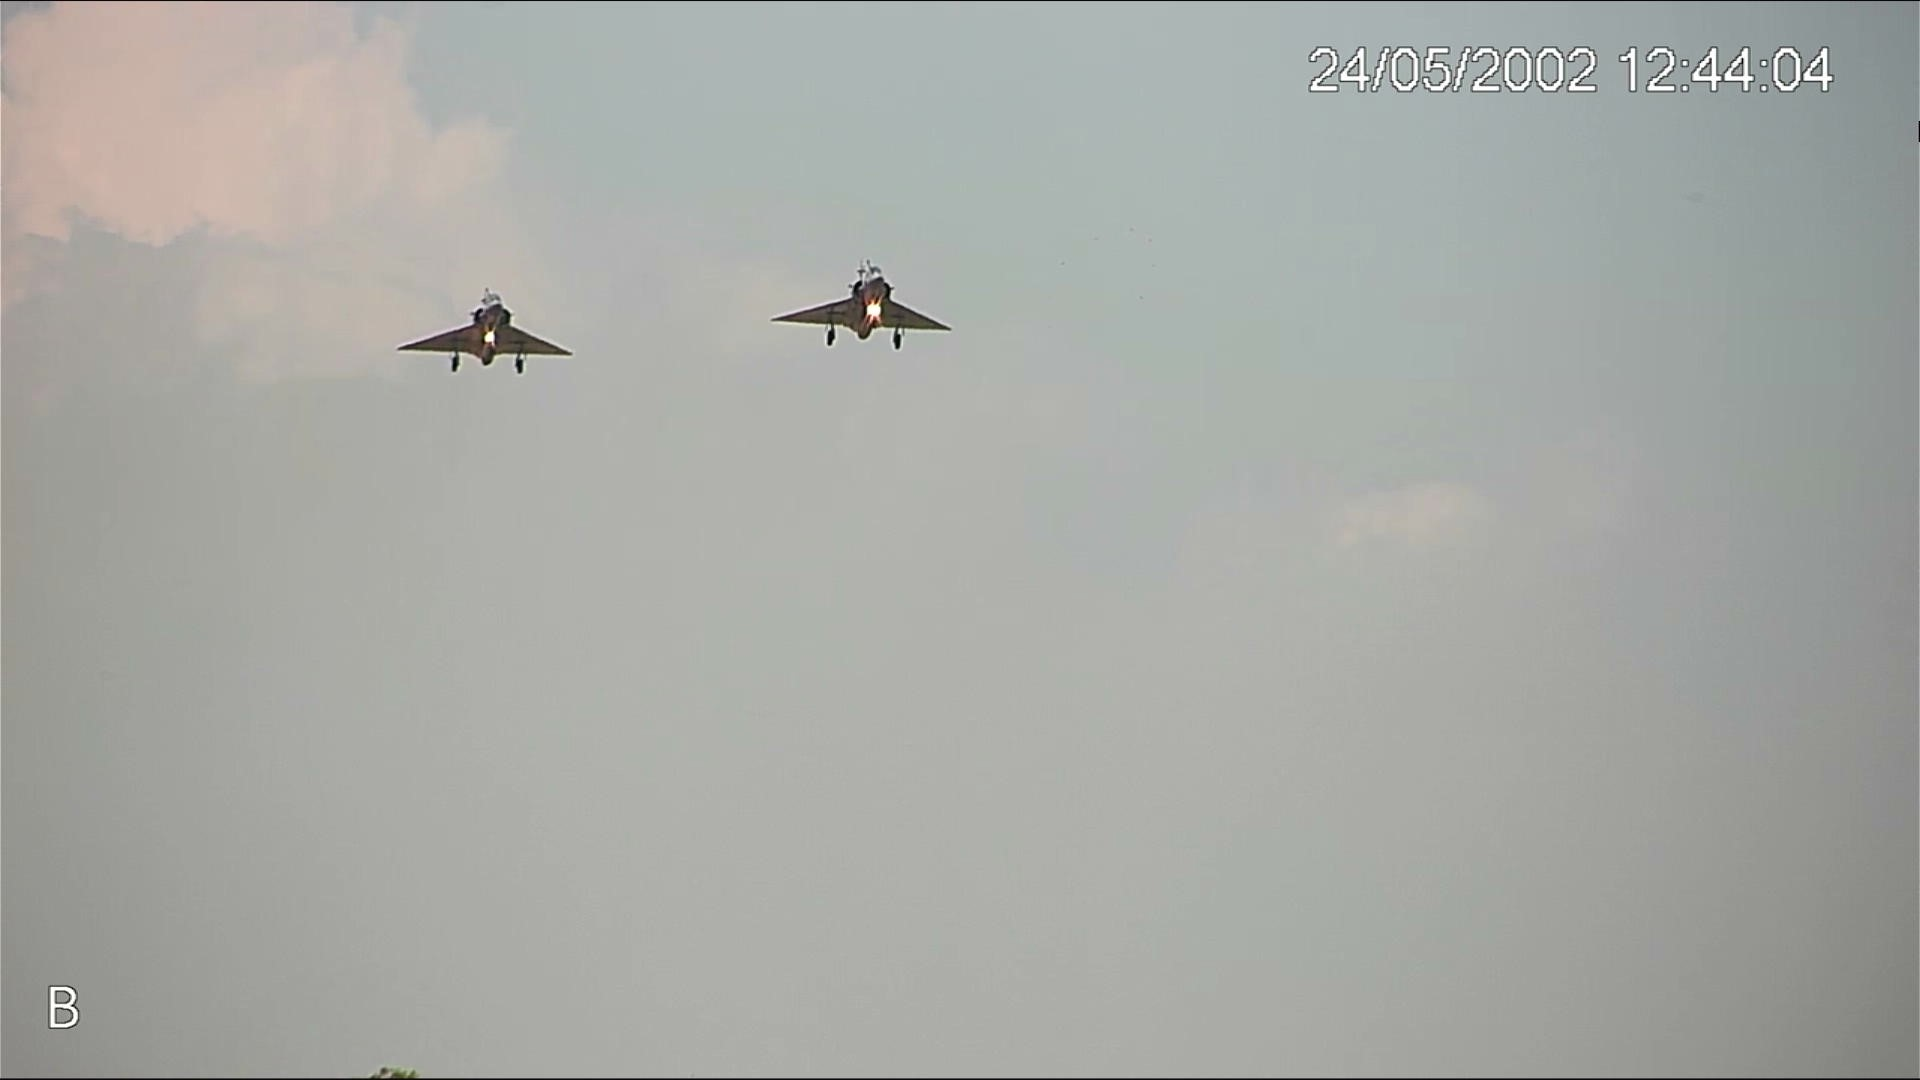SU_30: (770, 258, 953, 352), (393, 286, 576, 376)
